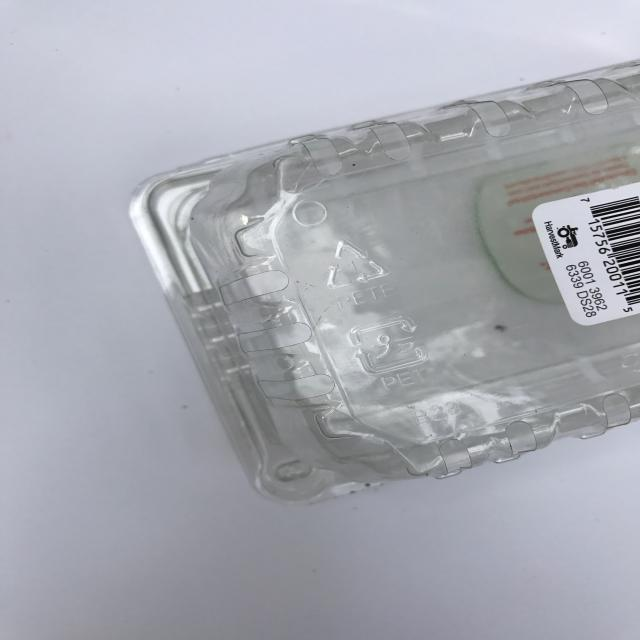plastic: (126, 58, 640, 512)
